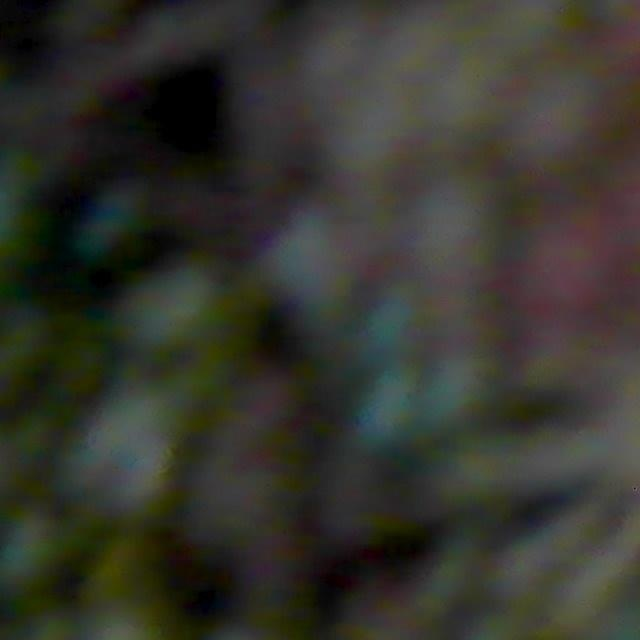SeaGrape: (511, 216, 601, 321), (261, 209, 357, 307), (126, 261, 225, 355), (0, 512, 63, 592)
